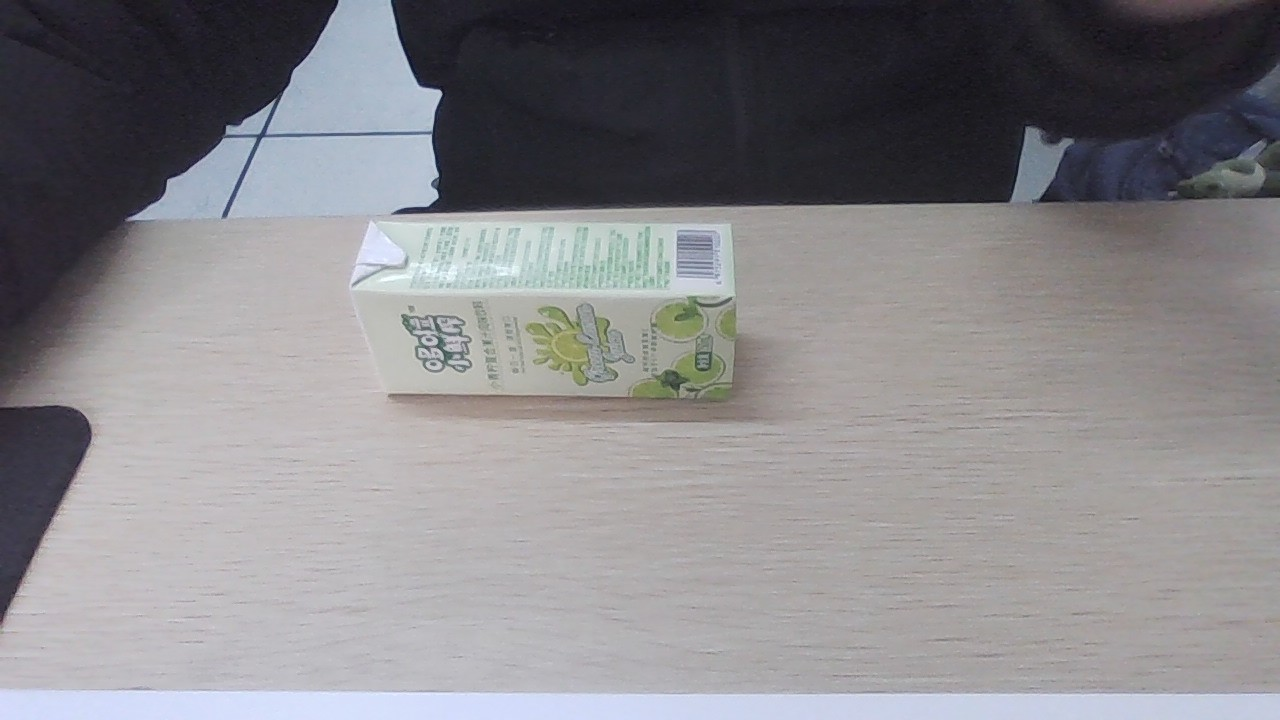CY-drink: (351, 217, 731, 402)
